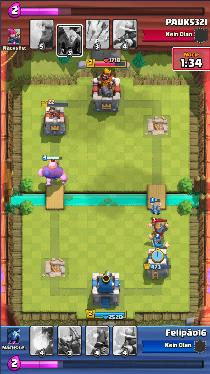ally_giant: (39, 163, 67, 186)
ally_knight: (150, 235, 168, 250)
ally_minion: (149, 204, 161, 215)
enemy_knight: (149, 220, 168, 233)
